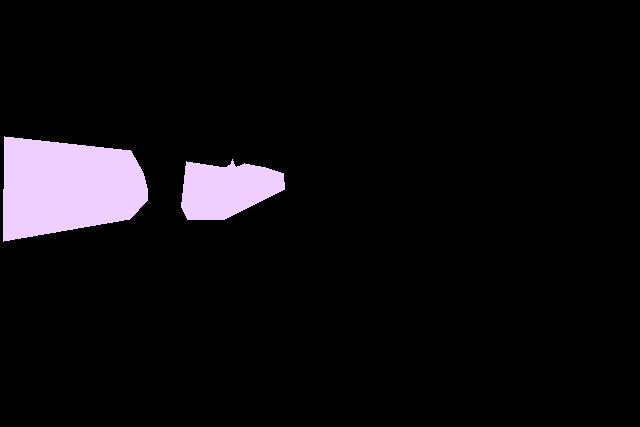Train: (3, 136, 147, 241), (181, 159, 284, 219)
